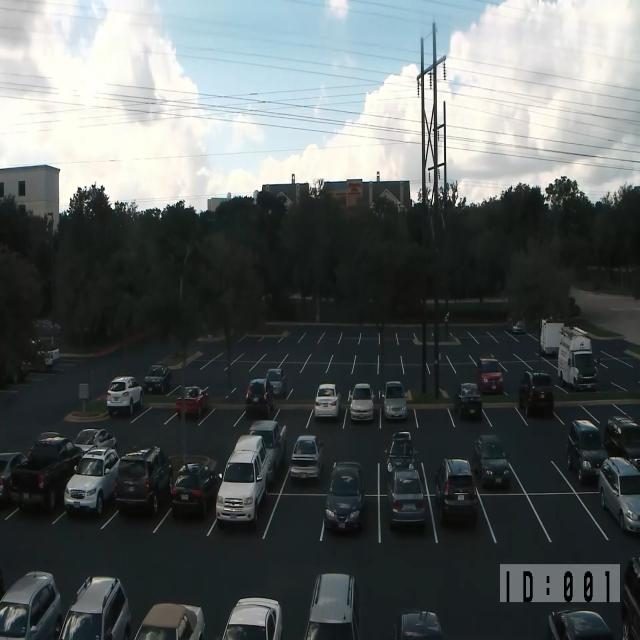space-empty: (486, 490, 544, 550), (268, 491, 323, 548), (420, 441, 474, 496), (329, 442, 381, 497), (511, 445, 564, 496), (540, 501, 598, 542), (415, 390, 454, 437), (484, 391, 525, 434), (553, 391, 592, 429), (137, 398, 176, 433), (275, 400, 313, 430), (207, 402, 243, 432), (52, 417, 86, 446), (499, 368, 531, 393), (618, 392, 640, 426), (322, 380, 352, 400), (289, 381, 320, 400), (527, 356, 556, 376), (170, 383, 204, 400), (512, 336, 539, 356), (351, 378, 381, 396), (380, 377, 407, 395), (476, 356, 502, 374), (204, 384, 237, 398), (124, 368, 146, 389), (446, 348, 472, 364), (327, 360, 354, 375), (353, 360, 378, 375), (251, 362, 274, 378), (194, 341, 218, 356), (422, 343, 443, 360), (145, 362, 167, 378), (402, 361, 429, 374), (238, 347, 262, 361), (398, 341, 422, 355), (280, 361, 305, 374), (164, 352, 187, 366), (378, 351, 402, 364), (306, 352, 332, 364), (431, 361, 455, 374), (262, 349, 285, 362), (208, 358, 232, 370), (358, 335, 380, 348), (186, 357, 208, 370), (396, 326, 417, 339), (378, 332, 398, 345), (320, 332, 341, 344), (420, 328, 438, 341), (282, 331, 303, 342), (454, 334, 476, 344), (493, 333, 515, 343), (436, 333, 456, 343), (264, 326, 284, 336), (242, 334, 263, 343)
space-occupied: (561, 432, 619, 492), (433, 491, 490, 550), (241, 428, 291, 492), (324, 492, 379, 549), (212, 493, 270, 547), (380, 494, 433, 550), (593, 483, 639, 546), (112, 492, 168, 540), (546, 606, 625, 640), (377, 442, 425, 497), (175, 470, 215, 529), (15, 486, 66, 529), (518, 382, 561, 432), (450, 384, 490, 434), (24, 431, 73, 470), (73, 474, 110, 520), (380, 389, 417, 434), (556, 362, 598, 399), (174, 393, 211, 434), (238, 392, 278, 429), (345, 391, 380, 433), (106, 393, 142, 428), (309, 398, 344, 433), (0, 447, 21, 496), (141, 375, 172, 398), (264, 378, 290, 401), (110, 373, 138, 393), (536, 341, 560, 361)
